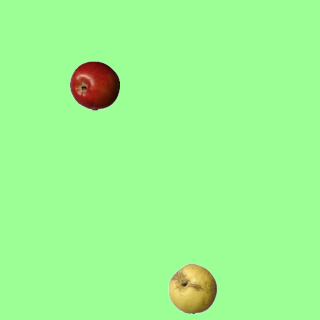Apple Braeburn: (69, 60, 119, 110)
Apple Golden 1: (167, 263, 217, 313)
